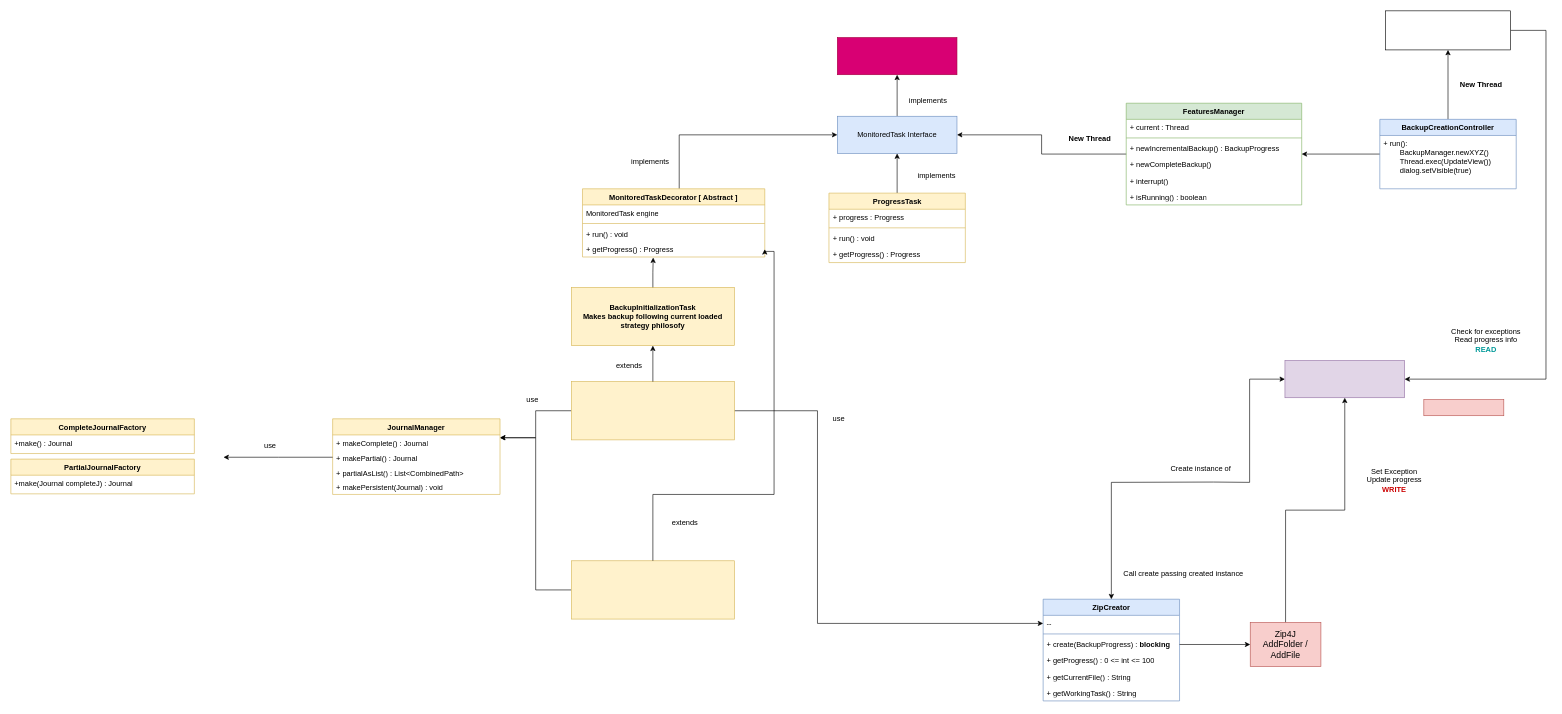
Image size: 1562x714. Some labels were removed from this diagram. The shapes that lost their labels are listed below. From the top down, each one's centre as x and y in pixels, then its label:
point 1448,30: UpdateView() Loop BackupManager.isRunning()
point 897,56: java.lang.Runnable
point 1344,379: BackupProgress See Progress Diagram
point 652,410: IncrementalBackupTask Create incremental backups using journal
point 1463,407: CRITICAL SECTION
point 652,589: IntegrityVerificationTask Check integrity of backups
